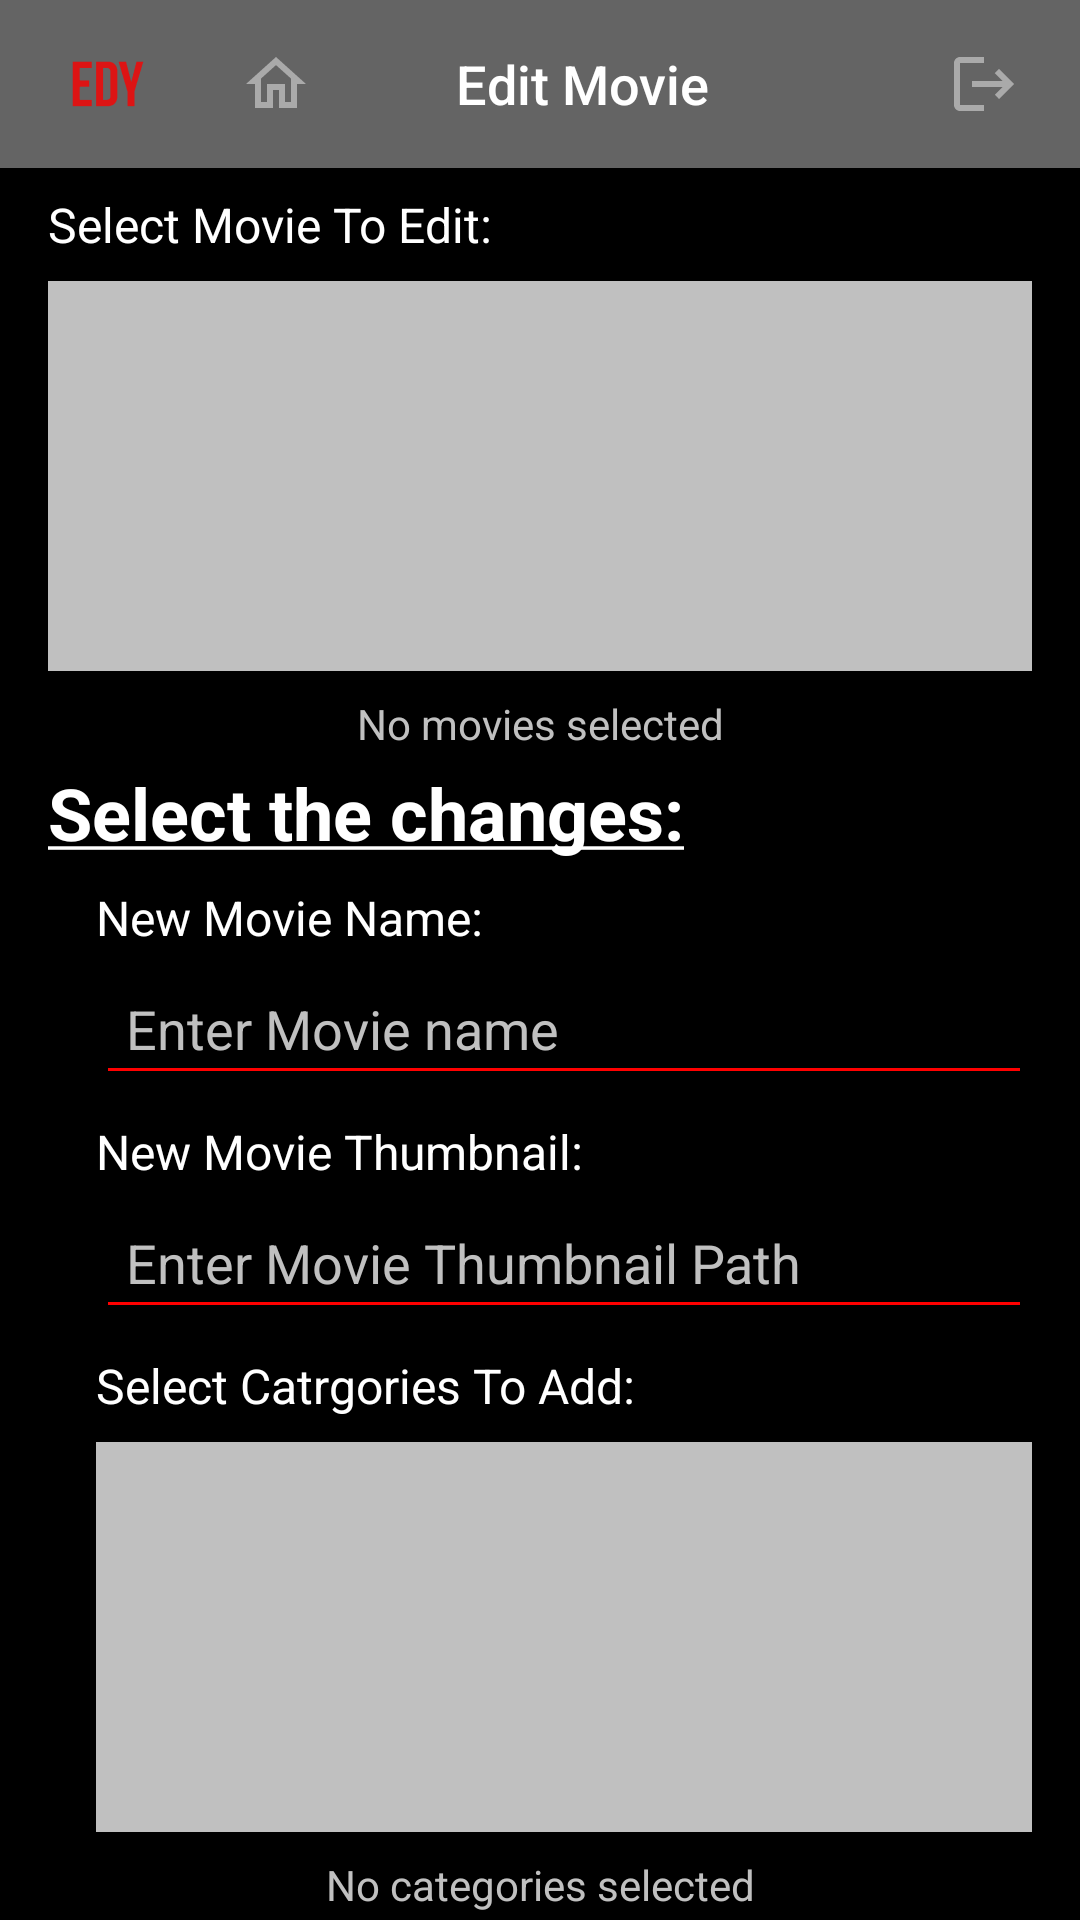

Where icons sit on this 1080x1920 app screen, as (x1, y1, x2, y2):
Home Button: (246, 57, 306, 108)
